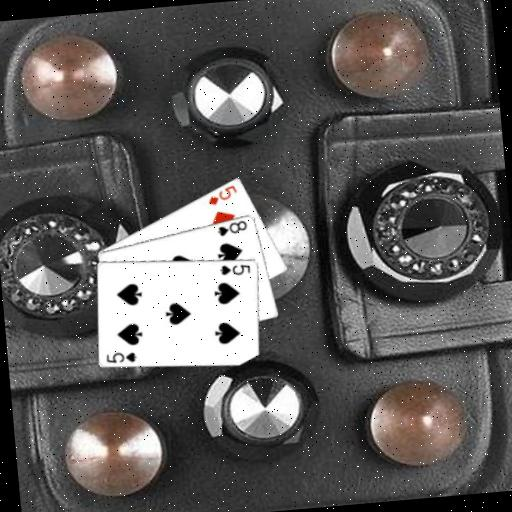5D: (204, 182, 239, 208)
5S: (217, 260, 253, 278), (103, 348, 139, 366)
8S: (214, 217, 249, 238)
